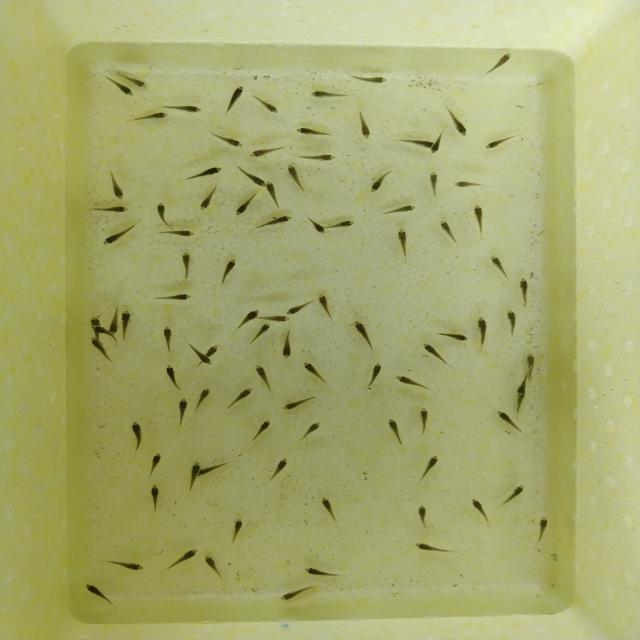fingerling: (418, 343, 455, 369), (445, 105, 471, 138), (246, 416, 274, 446), (496, 409, 526, 436), (182, 164, 224, 183), (166, 547, 199, 571), (262, 456, 290, 484), (102, 224, 136, 247), (481, 52, 513, 76), (393, 373, 431, 393), (482, 134, 518, 154), (224, 84, 245, 118), (106, 168, 127, 201), (126, 109, 172, 124), (83, 584, 114, 606), (248, 321, 274, 347), (362, 360, 385, 389), (208, 131, 245, 149), (274, 586, 314, 602), (127, 420, 147, 452), (281, 395, 316, 413), (352, 319, 375, 346), (468, 497, 491, 524), (102, 558, 146, 572), (252, 94, 281, 115), (257, 214, 295, 230), (234, 191, 258, 216), (500, 484, 526, 507), (284, 163, 306, 190), (488, 253, 510, 280), (249, 144, 286, 160), (470, 203, 487, 237), (382, 202, 418, 218), (234, 306, 258, 330), (355, 110, 373, 142), (203, 554, 226, 579), (296, 420, 322, 442), (224, 391, 250, 413), (162, 363, 182, 391), (304, 566, 344, 580), (350, 70, 390, 84), (89, 338, 111, 363), (198, 186, 220, 211), (474, 316, 490, 350), (395, 228, 410, 264), (253, 364, 272, 392), (411, 502, 430, 530), (368, 170, 391, 193), (147, 480, 162, 515), (156, 226, 196, 239), (306, 89, 349, 101), (297, 152, 340, 164), (240, 168, 267, 187), (278, 328, 294, 360), (303, 363, 327, 384), (316, 292, 334, 320), (154, 201, 172, 229), (439, 218, 459, 243), (420, 454, 440, 479), (160, 324, 176, 355), (264, 181, 283, 207), (293, 126, 331, 139), (413, 542, 454, 554), (227, 518, 247, 542), (384, 418, 403, 443), (220, 258, 238, 284), (164, 102, 203, 114), (396, 137, 432, 150), (119, 311, 133, 344), (322, 501, 341, 525), (437, 330, 469, 344), (89, 205, 129, 216), (201, 461, 232, 475), (517, 277, 531, 308), (536, 514, 550, 545), (148, 453, 164, 480), (194, 391, 212, 415), (426, 170, 441, 198), (417, 406, 432, 434), (187, 462, 201, 492), (524, 351, 538, 381), (108, 84, 134, 100), (301, 219, 326, 235), (286, 300, 312, 315), (453, 178, 484, 190), (181, 251, 193, 282), (130, 75, 156, 89), (506, 309, 518, 339), (154, 293, 194, 302), (174, 399, 188, 424), (326, 220, 357, 230), (109, 305, 119, 335), (264, 313, 292, 323), (516, 380, 528, 396), (429, 143, 444, 155), (206, 342, 218, 356), (91, 326, 106, 334), (89, 315, 101, 325), (198, 356, 213, 364)
